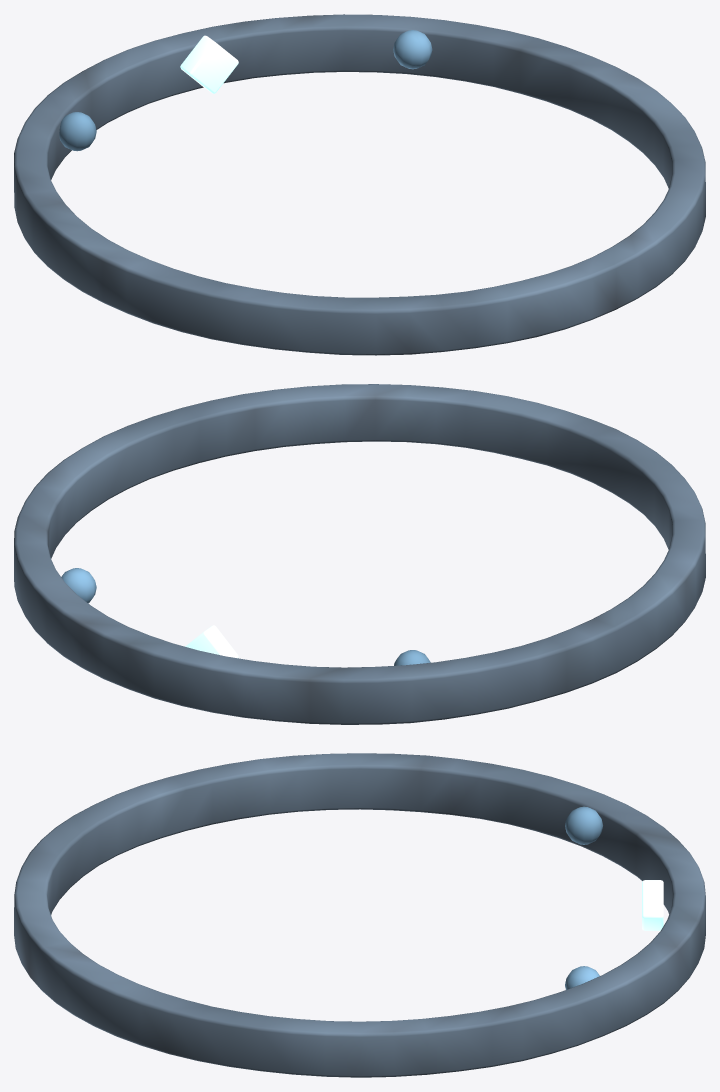
Rendered from head_anchor.glb.
The picture shows the model from 3 angles, top to bottom: view 1: azimuth 30°, elevation 25°; view 2: azimuth 150°, elevation 25°; view 3: azimuth 270°, elevation 25°; orthographic projection. The views are drawn at different scales.
Parts seen in each view (by area): view 1: Cylinder, Cube, Sphere.001, Sphere; view 2: Cylinder, Cube, Sphere.001; view 3: Cylinder, Sphere, Cube.
Boxes of the visible parts, x1,y1,x2,y2 form: Cylinder: (14,14,705,355); Cube: (180,35,238,93); Sphere.001: (393,30,432,69); Sphere: (59,112,96,151); Cylinder: (14,384,705,724); Cube: (185,625,238,658); Sphere.001: (61,568,96,603); Cylinder: (14,753,705,1077); Sphere: (565,806,602,844); Cube: (642,880,663,930).
Size of the model in its own units: 2.44 by 0.2338 by 2.53.
